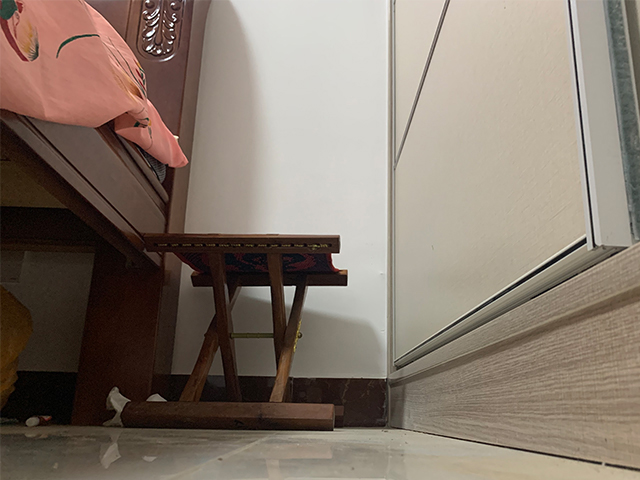cabinet: (388, 1, 640, 471)
stool: (119, 232, 349, 432)
